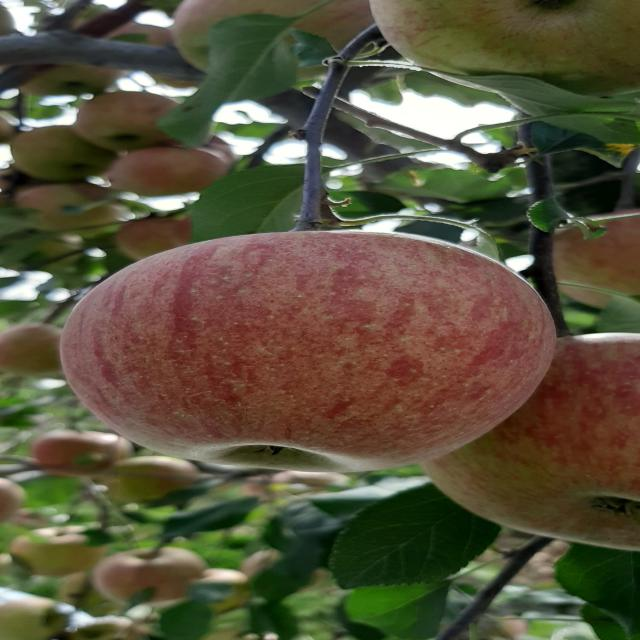fresh: (46, 224, 576, 481)
